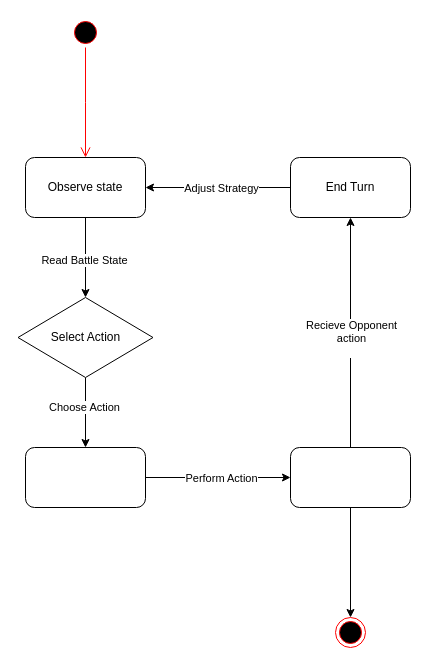
Some shapes in this 428 by 665 pixel diagram are drawn without their labels. Each missing label, with the centre of its shape:
Execute Action: the point at 85,477
Wait for Opponent: the point at 350,477
